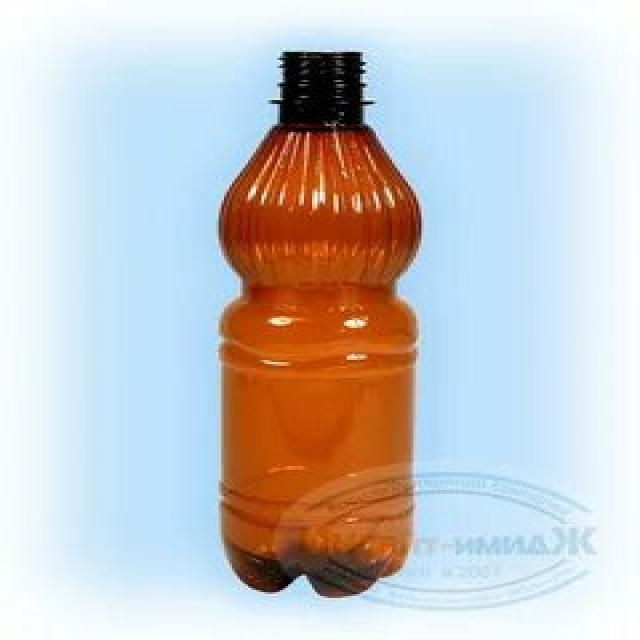brown: (222, 51, 422, 596)
